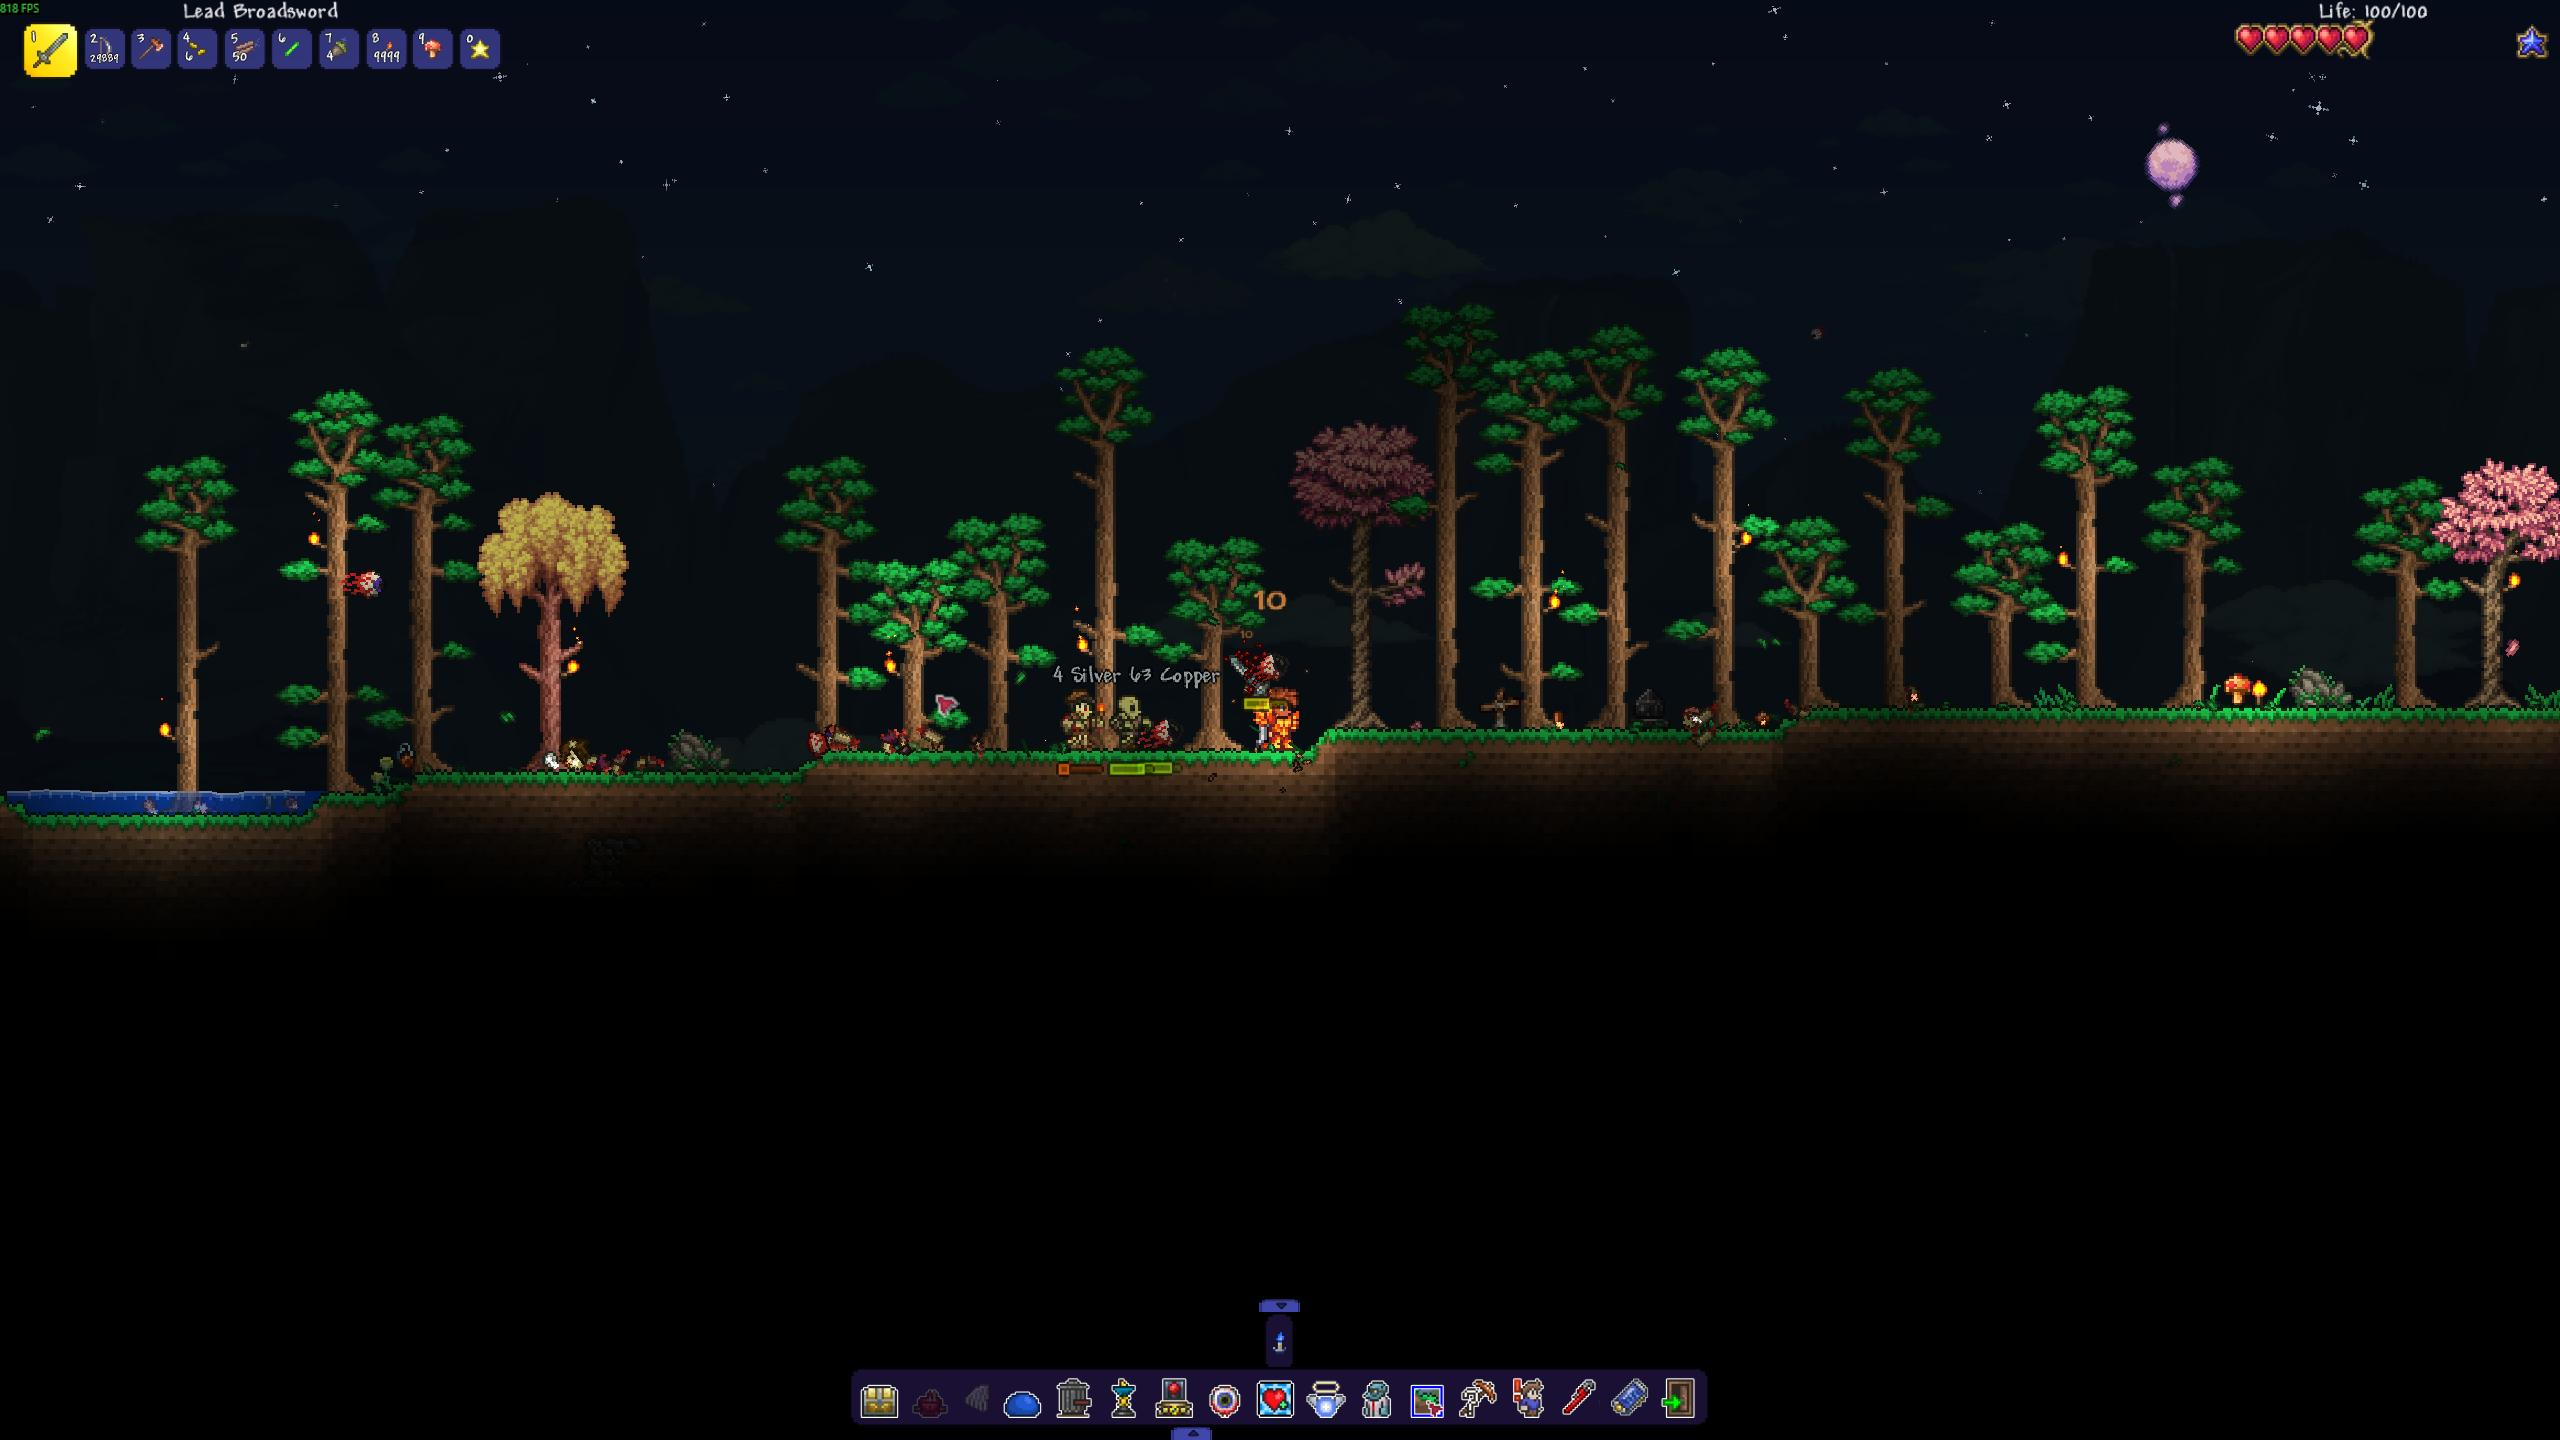Demon Eye: (1233, 644, 1285, 686), (1136, 712, 1189, 751), (334, 563, 387, 600)
Zombie: (1057, 684, 1108, 761), (1106, 689, 1148, 751)
